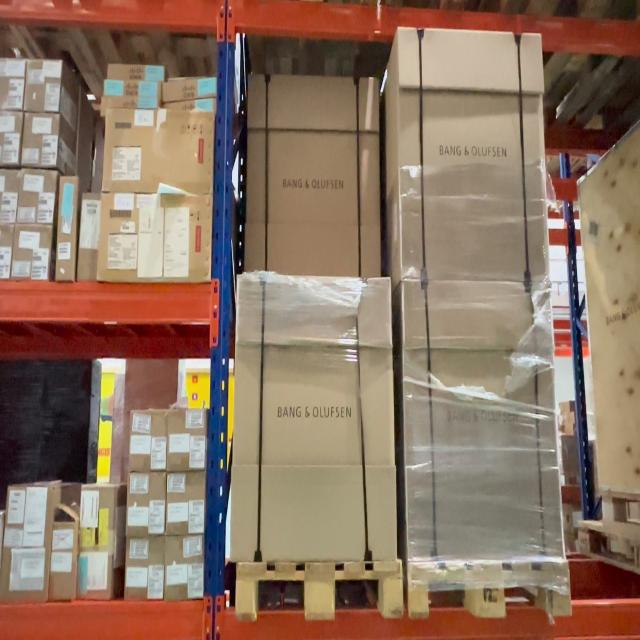box: (229, 271, 398, 563), (404, 280, 565, 558), (398, 27, 549, 284), (245, 74, 381, 279)
